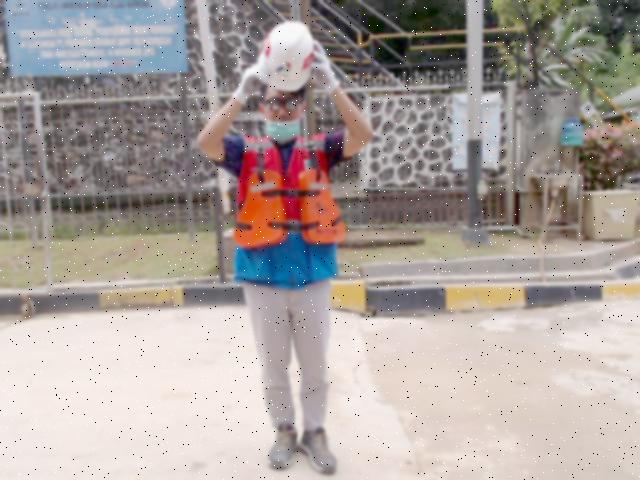glasses: (264, 97, 300, 112)
gloves: (311, 39, 338, 94), (232, 63, 265, 107)
helmet: (255, 20, 314, 92)
mask: (266, 120, 300, 144)
safety-shoes: (300, 425, 338, 477), (268, 422, 298, 470)
vest: (231, 169, 346, 245)
